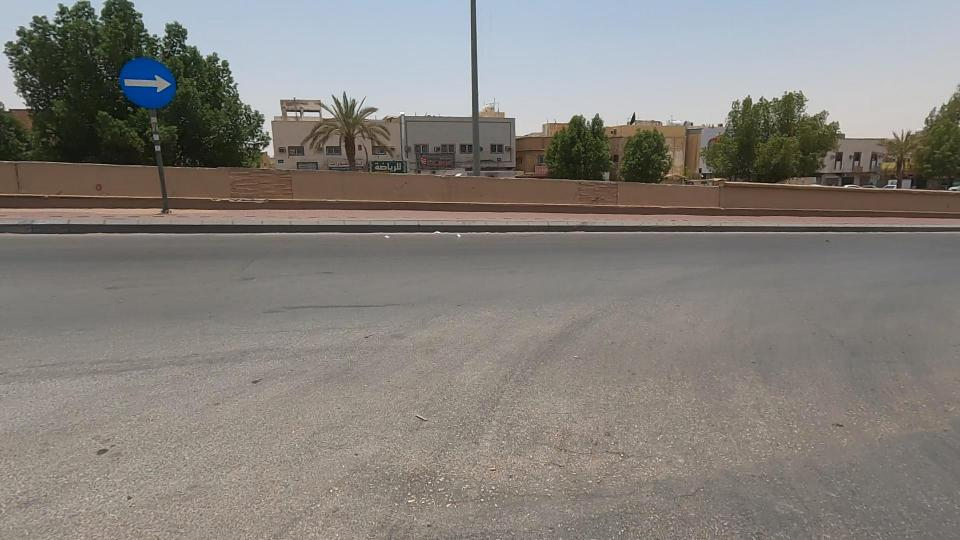BAD_BILLBOARD: (383, 132, 485, 187)
